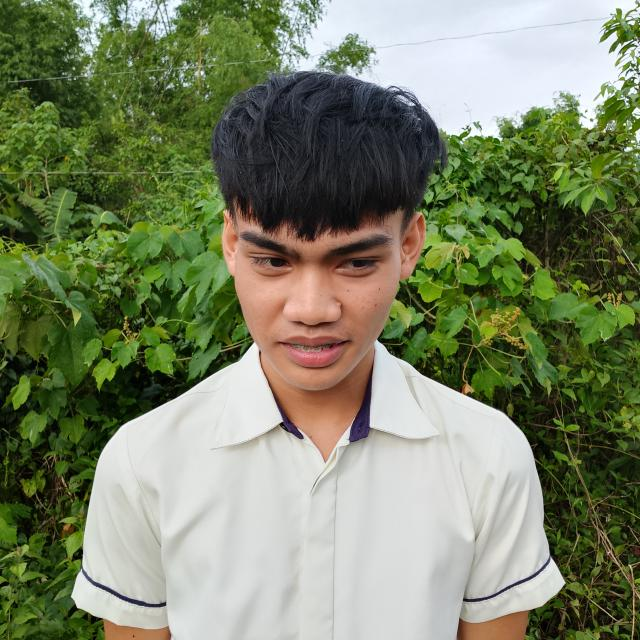education_male_uniform: (29, 339, 640, 640), (168, 323, 378, 507), (194, 336, 441, 474), (342, 324, 480, 471)
